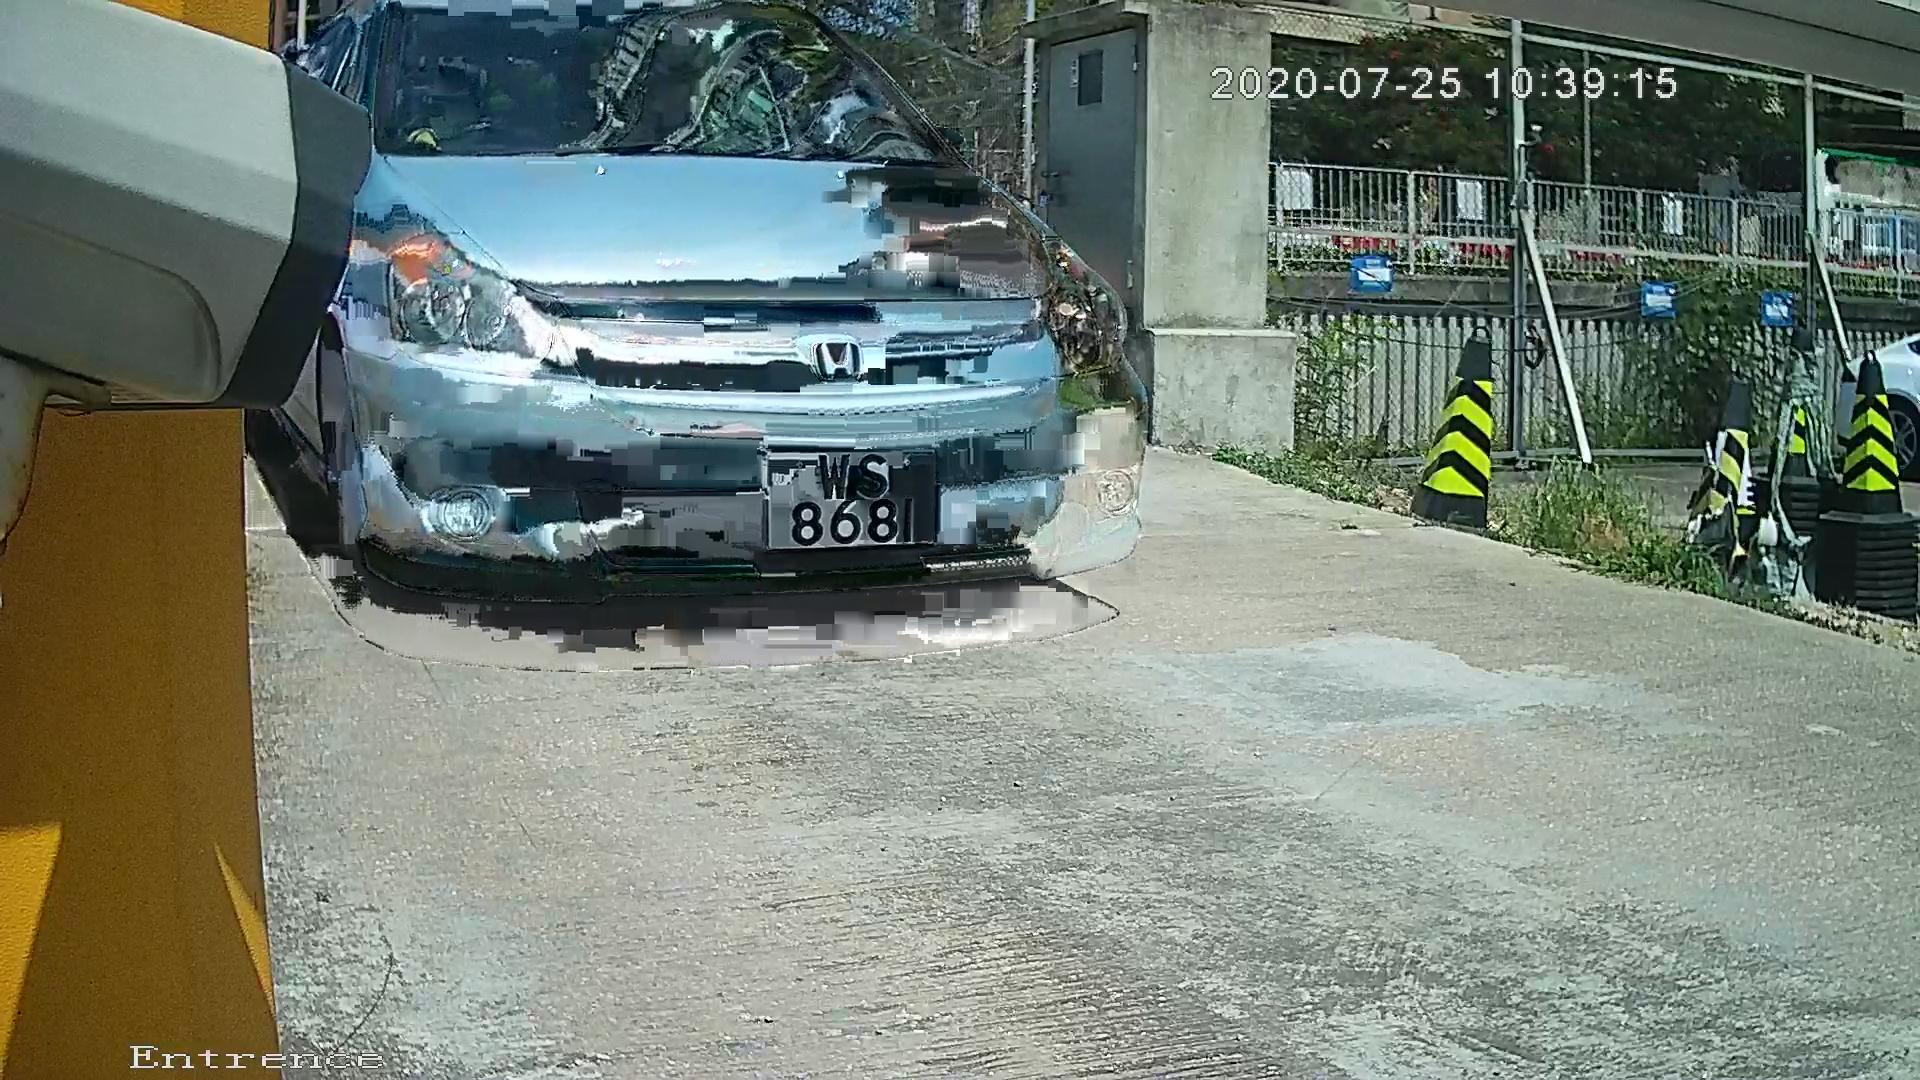License Plate: (734, 430, 1015, 572)
